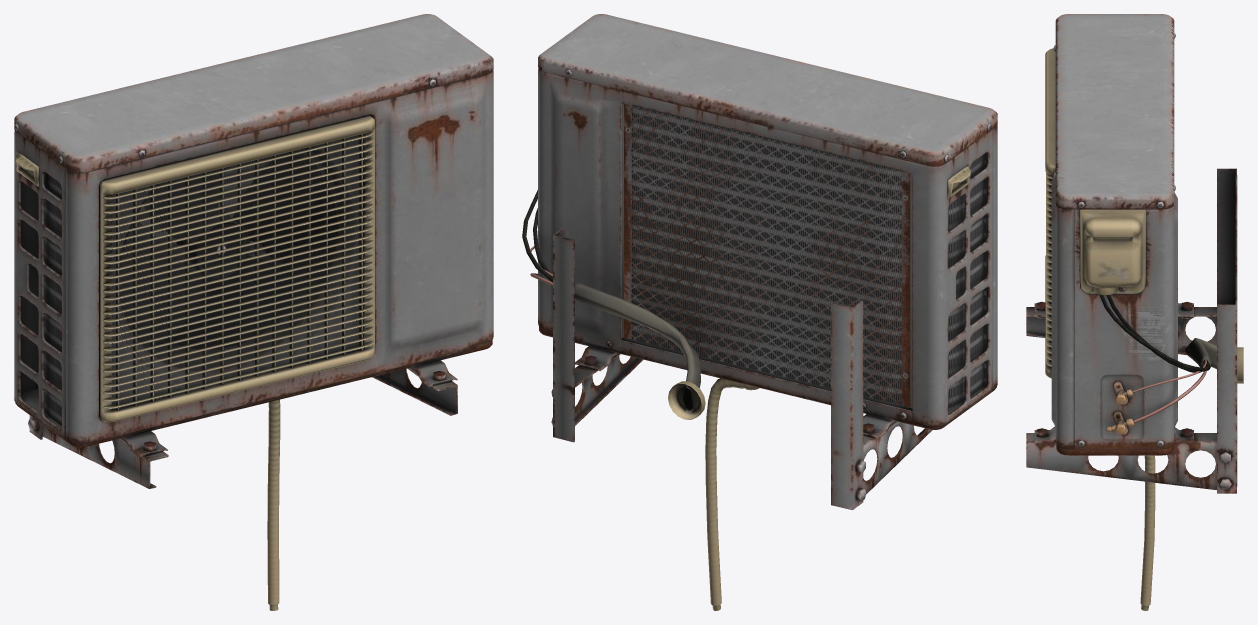
Rendered from aircon_unit.gltf.
3 renders of one model, left to right at view 1: azimuth 30°, elevation 25°; view 2: azimuth 150°, elevation 25°; view 3: azimuth 270°, elevation 25°, orthographic. The views are drawn at different scales.
Parts seen in each view (by area): view 1: aircon_unit; view 2: aircon_unit; view 3: aircon_unit.
Boxes of the visible parts, x1,y1,x2,y2 form: aircon_unit: (14, 14, 493, 610); aircon_unit: (522, 14, 997, 610); aircon_unit: (1026, 14, 1243, 610).
Size of the model in its own units: 0.8 by 0.9279 by 0.3742.
2 materials, 2 textured.
